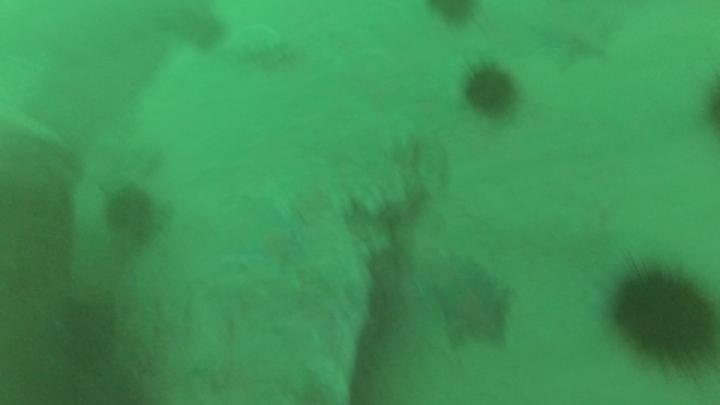echinus: (616, 275, 716, 360), (104, 186, 156, 241), (467, 70, 515, 113)
starfish: (436, 273, 506, 343)
